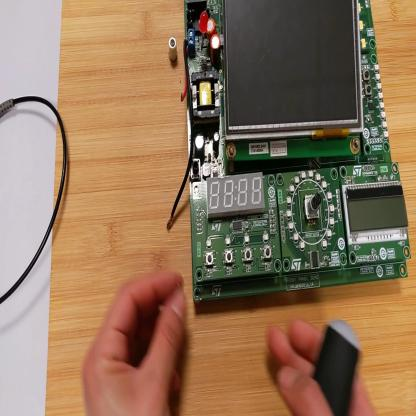hand: (83, 262, 188, 416), (267, 316, 373, 416)
low voltage board: (167, 2, 411, 306)
oscilloscope probe tip: (1, 98, 16, 120)
screwdriver-: (313, 323, 364, 416)
working area: (47, 3, 416, 414)
